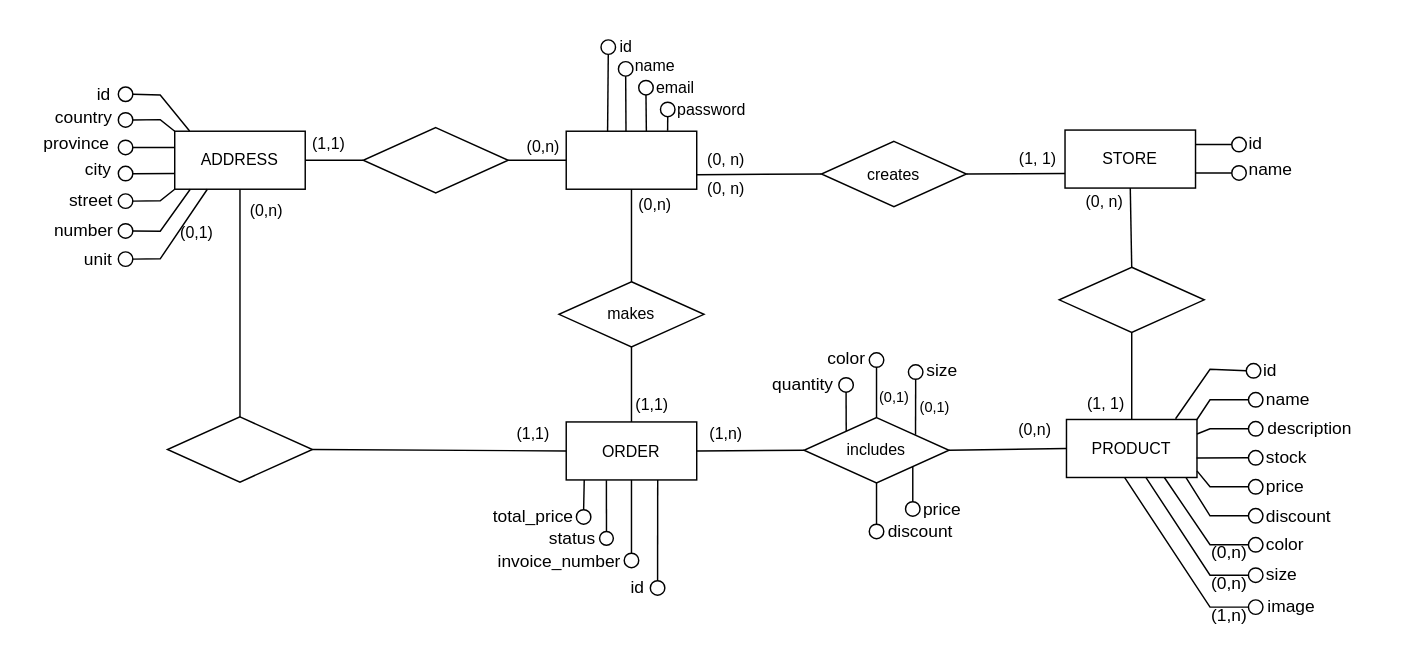
This 1405x663 diagram has some shape labels left out. Here are the shapes that lost their labels. From the top down, the centre of each, then its label:
At (x=435, y=159): "has".
At (x=631, y=159): "USER".
At (x=1131, y=299): "sells".
At (x=239, y=448): "ships to".
